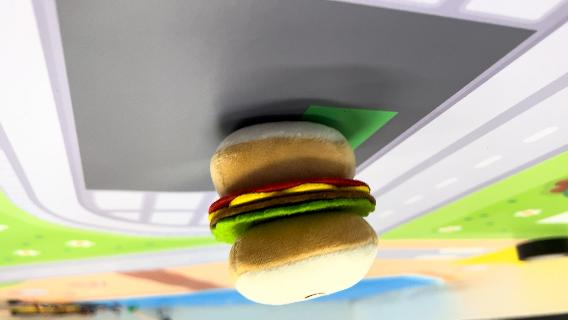sandwich: (204, 117, 384, 306)
